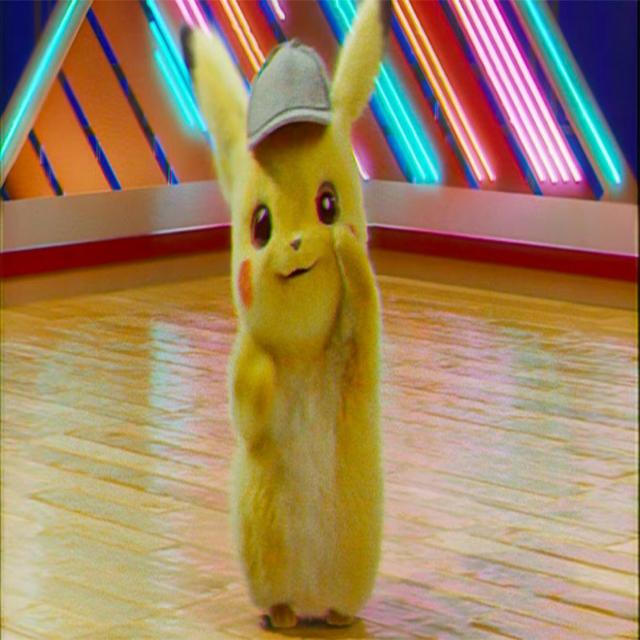pikachu: (179, 0, 396, 628)
